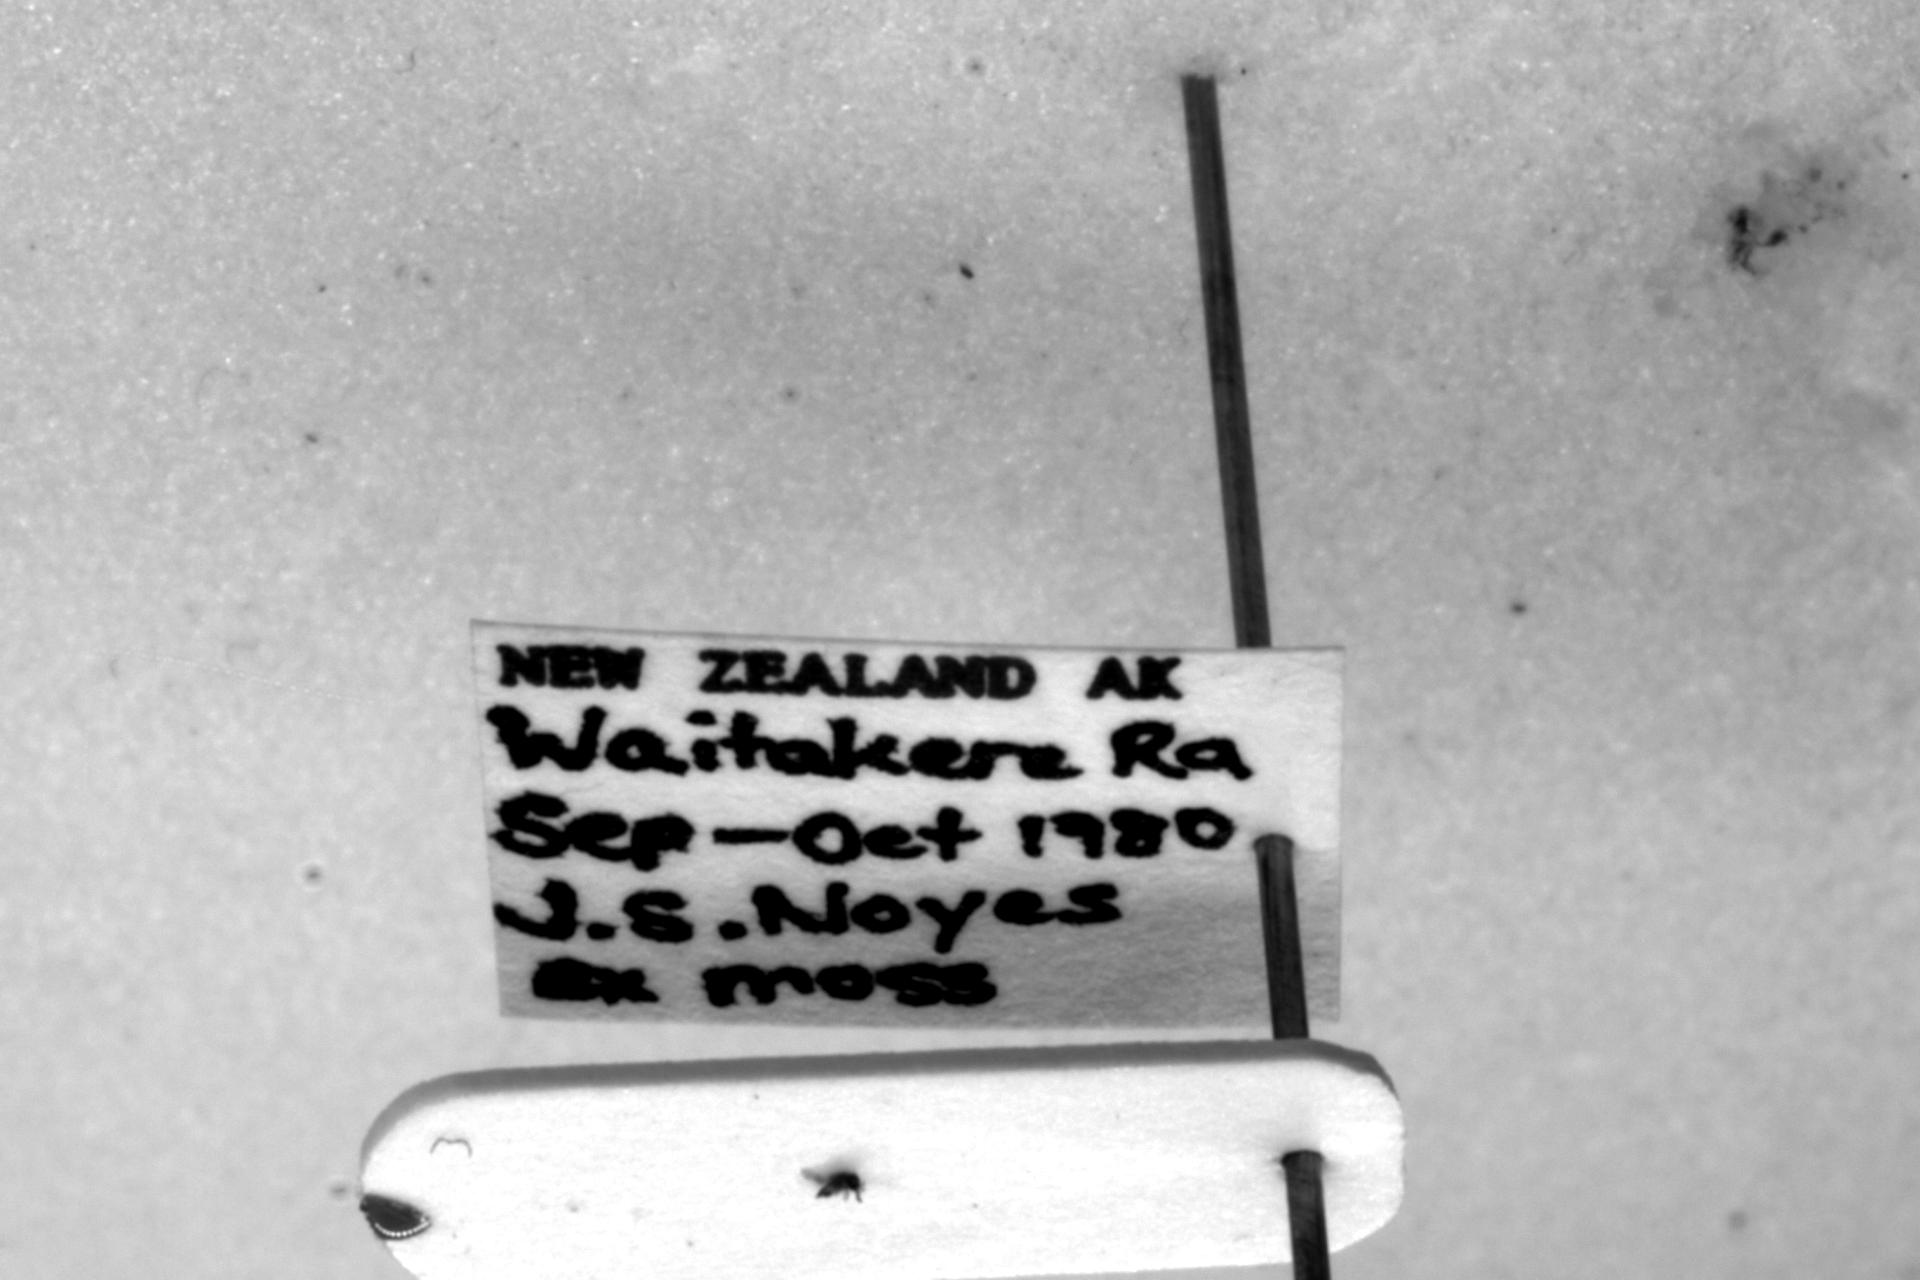mixed_label: (473, 623, 1343, 1027)
